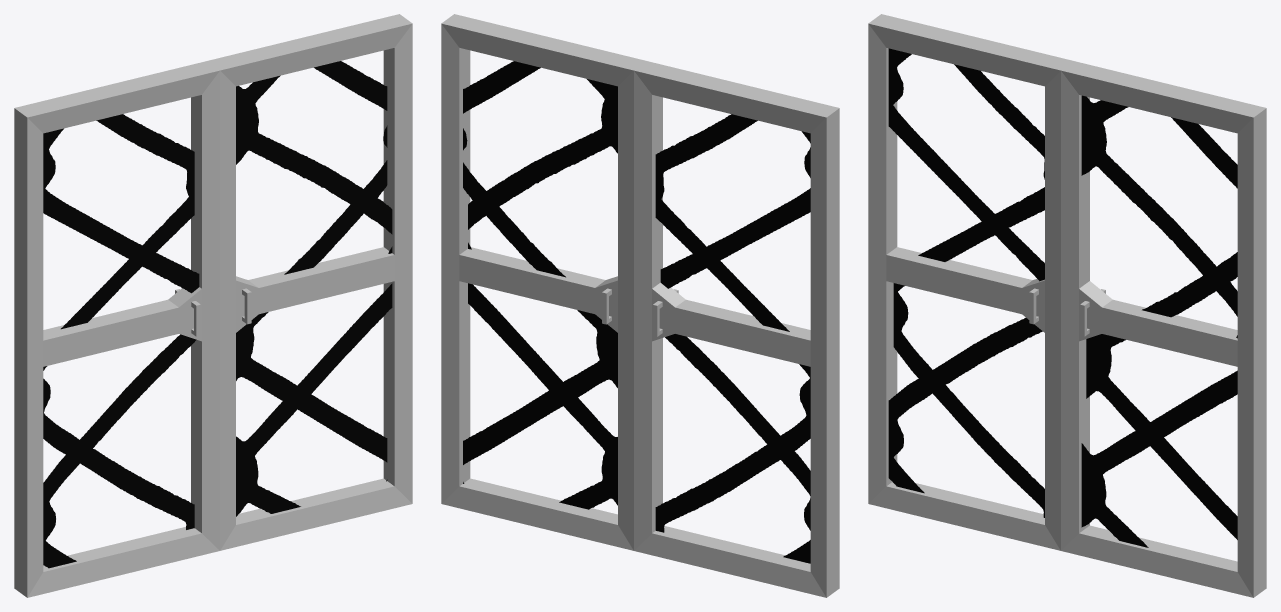
The model's file is DoorForStorage.fbx.
The picture shows the model from 3 angles, left to right: view 1: azimuth 30°, elevation 25°; view 2: azimuth 150°, elevation 25°; view 3: azimuth 330°, elevation 25°; orthographic projection.
Visible parts, largest first — view 1: doorForStorage:Cube_15_2 (×2), doorForStorage:Cube_16_1 (×2); view 2: doorForStorage:Cube_15_2 (×2), doorForStorage:Cube_16_1 (×2); view 3: doorForStorage:Cube_15_2 (×2), doorForStorage:Cube_16_1 (×2).
Part boxes in pixels (<box>): doorForStorage:Cube_15_2 (×2): <box>14,14,412,597</box>; doorForStorage:Cube_16_1 (×2): <box>43,61,392,568</box>; doorForStorage:Cube_15_2 (×2): <box>441,14,839,597</box>; doorForStorage:Cube_16_1 (×2): <box>463,61,810,563</box>; doorForStorage:Cube_15_2 (×2): <box>868,14,1266,597</box>; doorForStorage:Cube_16_1 (×2): <box>888,48,1237,547</box>.
Size of the model in its own units: 1.7 by 2.03 by 0.1637.
